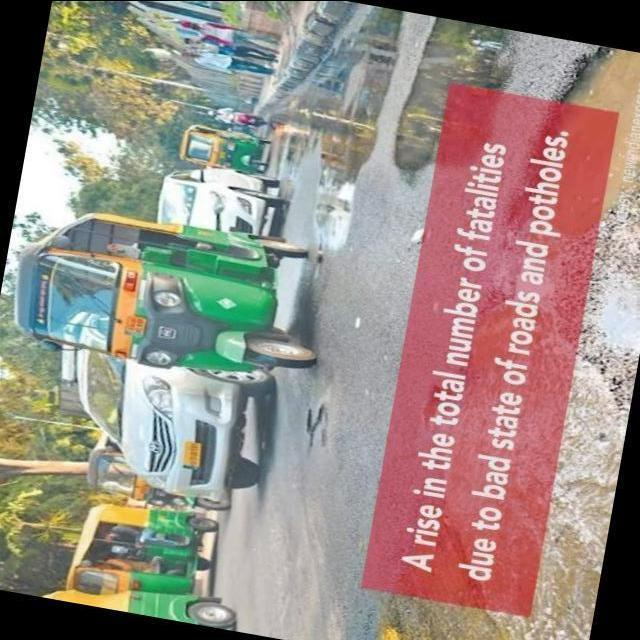pothole: (515, 45, 640, 252), (394, 24, 509, 166), (305, 403, 332, 451)
